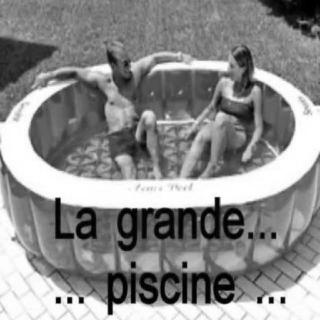other: (15, 148, 291, 208), (275, 63, 311, 181), (9, 82, 43, 180)
